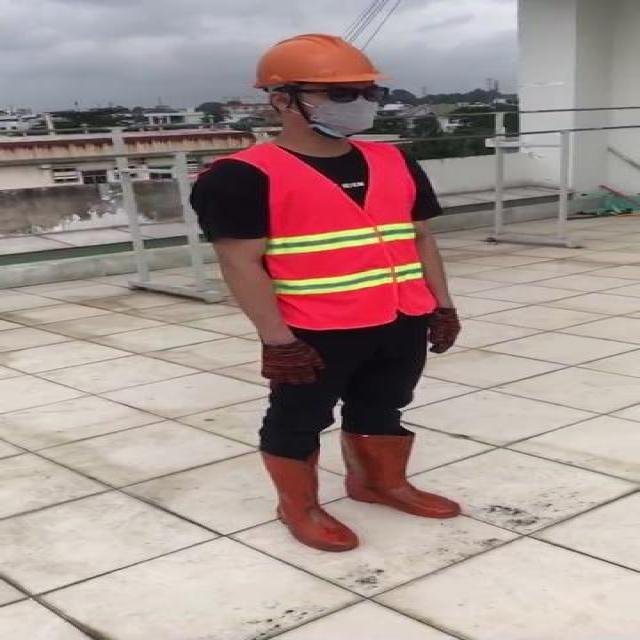boots: (343, 429, 462, 519), (265, 449, 357, 553)
face_mask: (304, 82, 389, 134)
glasses: (312, 76, 388, 110)
hand_glove: (262, 343, 324, 385), (434, 308, 460, 355)
head_helmet: (250, 29, 388, 92)
person: (185, 32, 478, 568)
vest: (263, 142, 432, 327)
